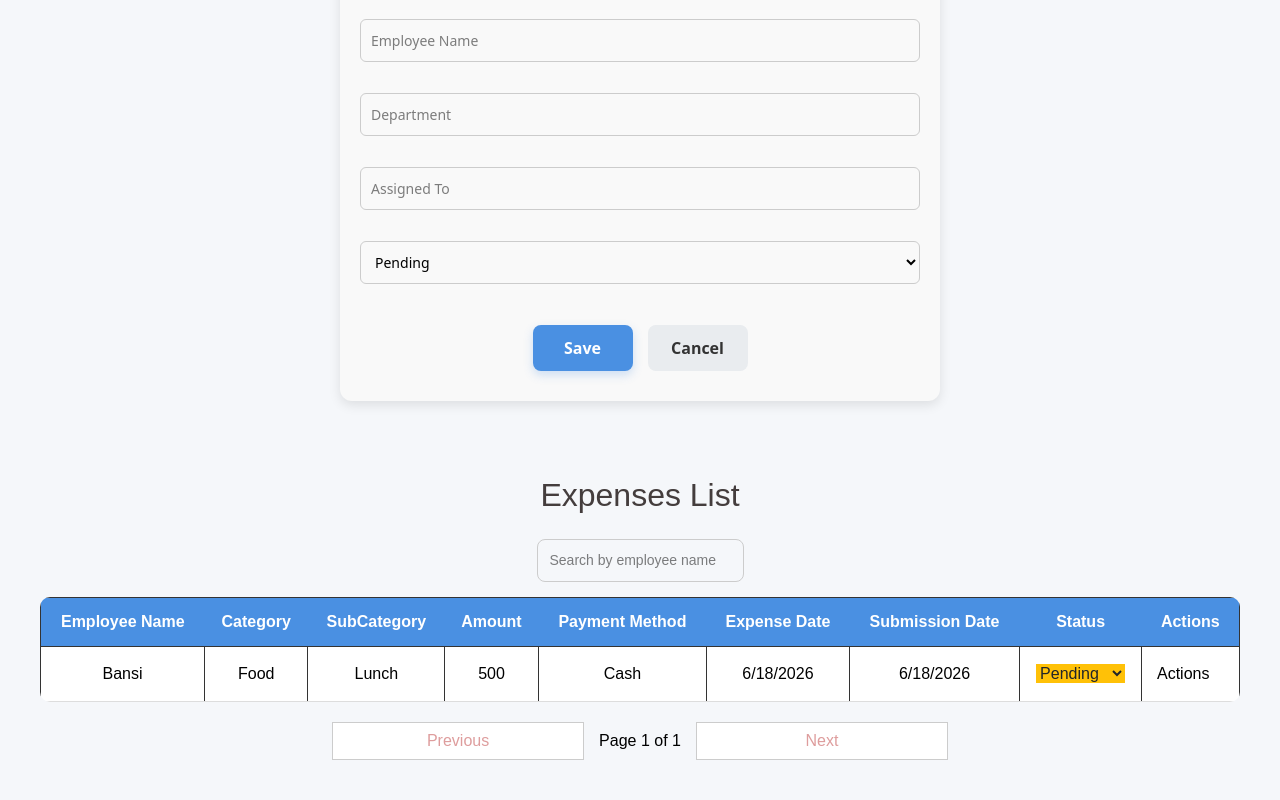
UserExpense Page › search filters expense records
The width and height of the screenshot is (1280, 800).
(page scrolled)
Step 1. Type "xyz" into the field with placeholder "Search by employee name" → (640, 560), box [536,539,744,582]
(page scrolled)
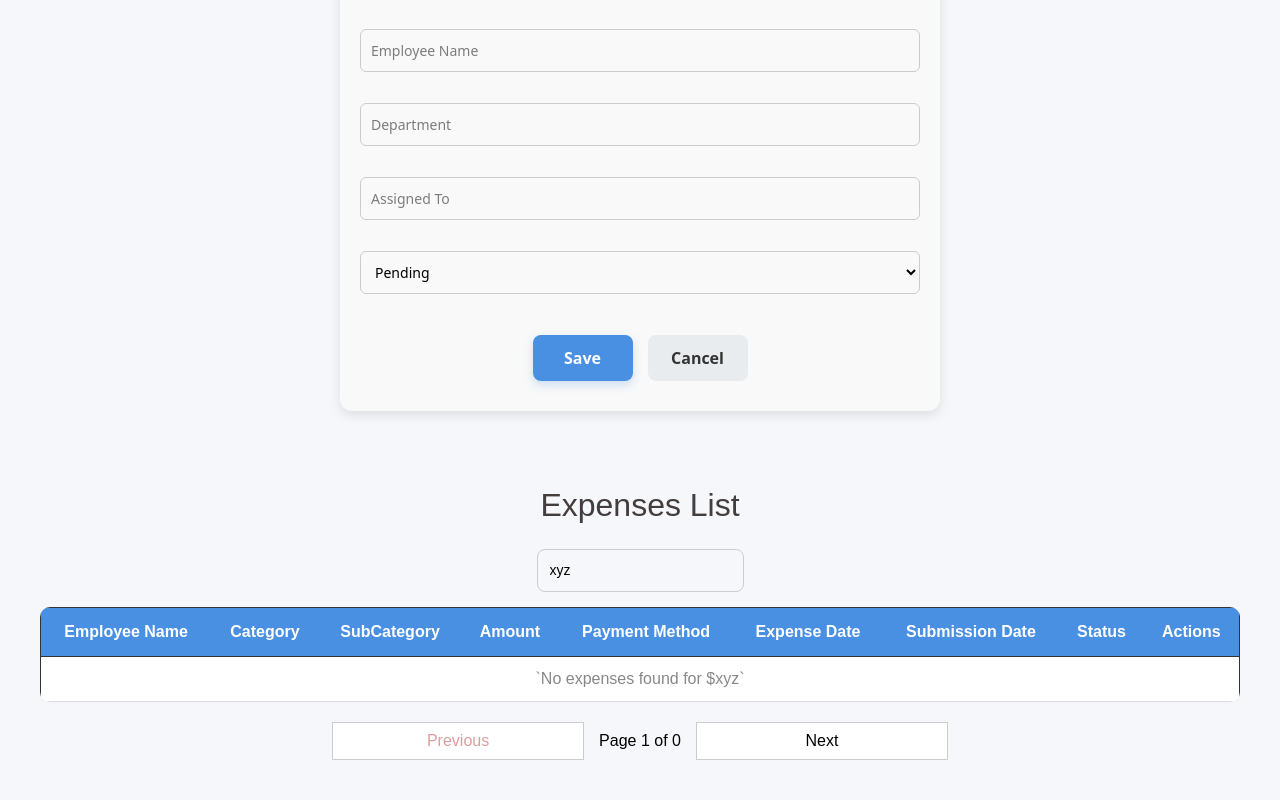
Expected: the text "`No expenses found for $xyz`" is shown, [40,656,1240,702]
